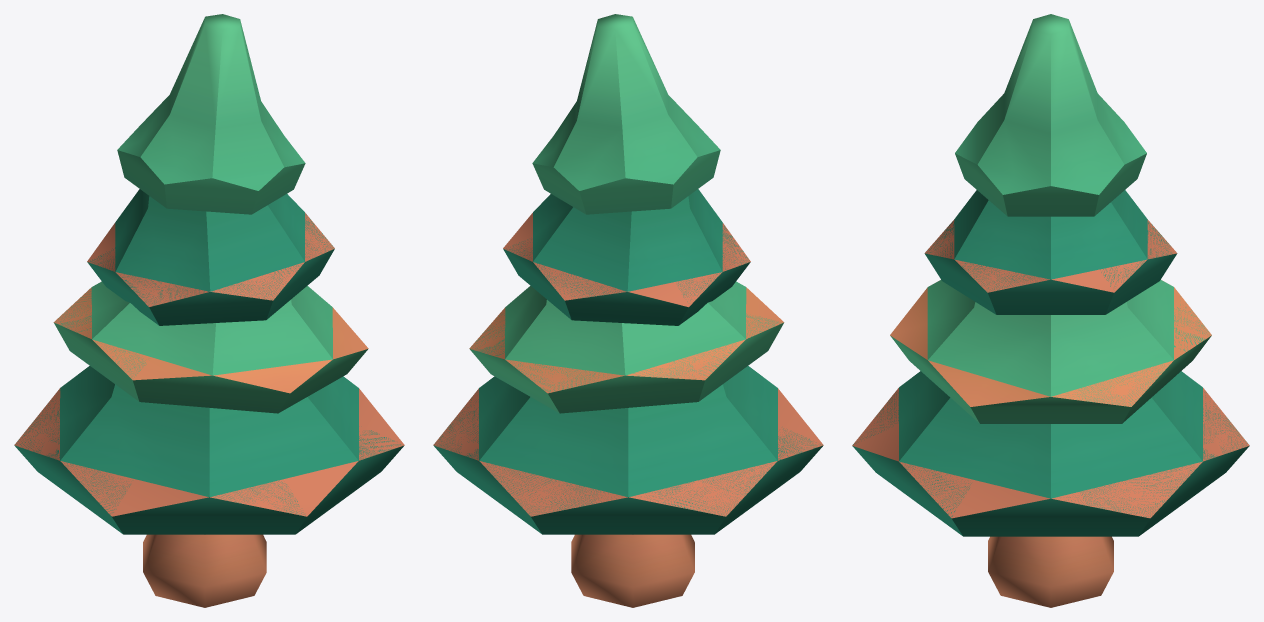
The model's file is pine-crooked.glb.
3 views of the same model, side by side, from view 1: azimuth 30°, elevation 25°; view 2: azimuth 150°, elevation 25°; view 3: azimuth 270°, elevation 25° (orthographic).
Visible parts, largest first — view 1: pine-crooked; view 2: pine-crooked; view 3: pine-crooked.
Boxes of the visible parts, box(x1,y1,x2,y2) form: pine-crooked: box(14, 14, 404, 607); pine-crooked: box(433, 14, 823, 607); pine-crooked: box(852, 14, 1249, 607).
Size of the model in its own units: 1.18 by 2.11 by 1.33.
1 material, 1 textured.
